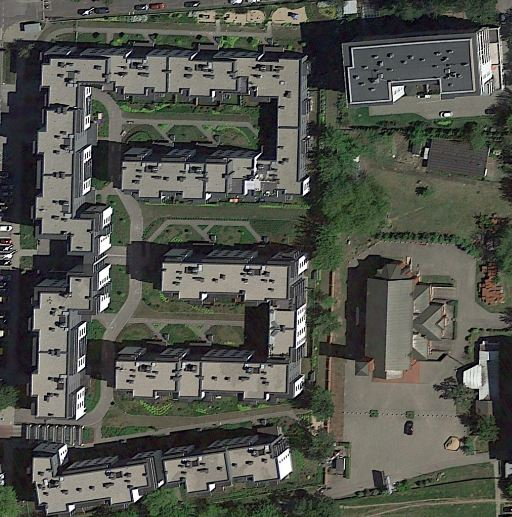block of flats: (28, 45, 312, 257), (109, 238, 314, 407), (25, 423, 297, 517), (15, 263, 111, 440), (349, 258, 459, 395), (333, 22, 503, 109)
